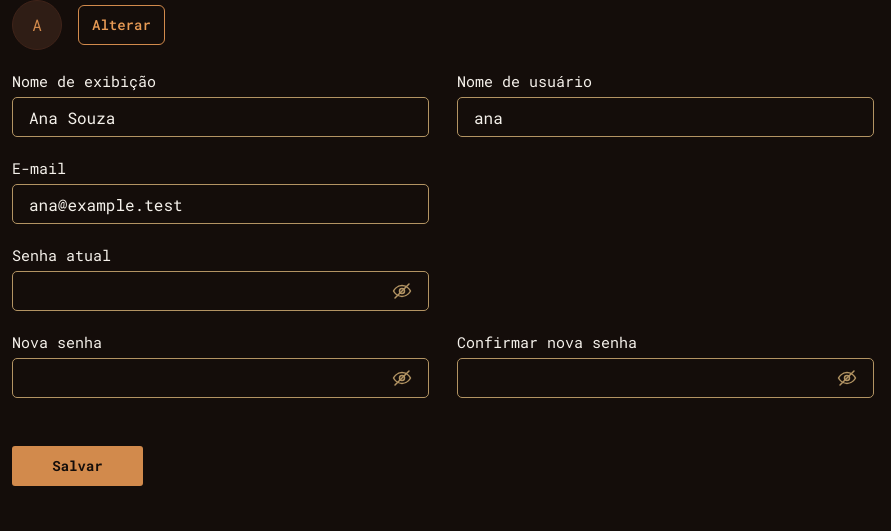
Test: ProfileEditor (pt-BR) › conflito de e-mail aparece no campo
The width and height of the screenshot is (891, 531).
Replace the text in the field labelled "E-mail" with "bruno@example.test" at (220, 204), box [29,194,412,214]
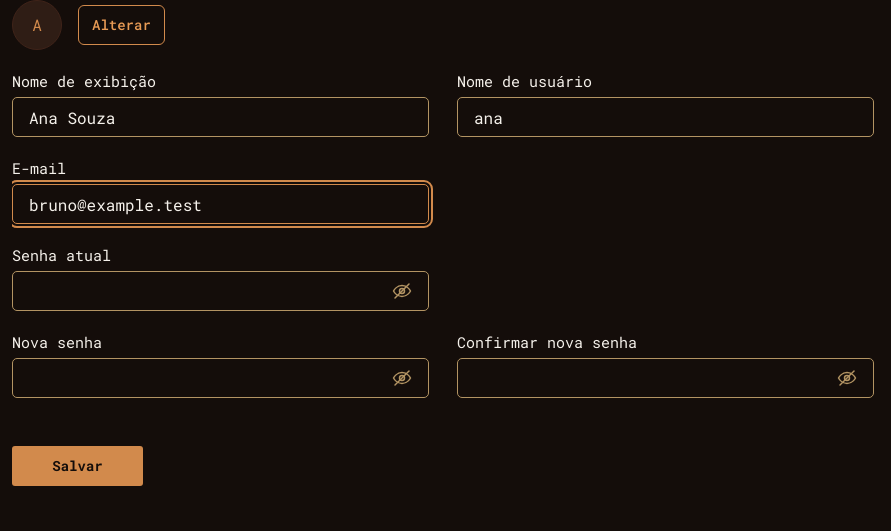
Click the button "Salvar" at (78, 466), box [12,446,143,486]
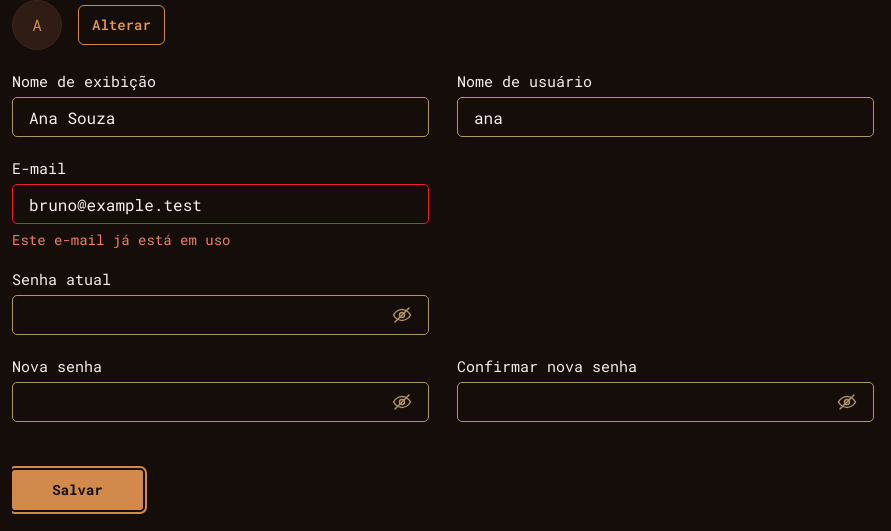
Now the text "Este e-mail já está em uso" is shown, box [12,230,230,249]
